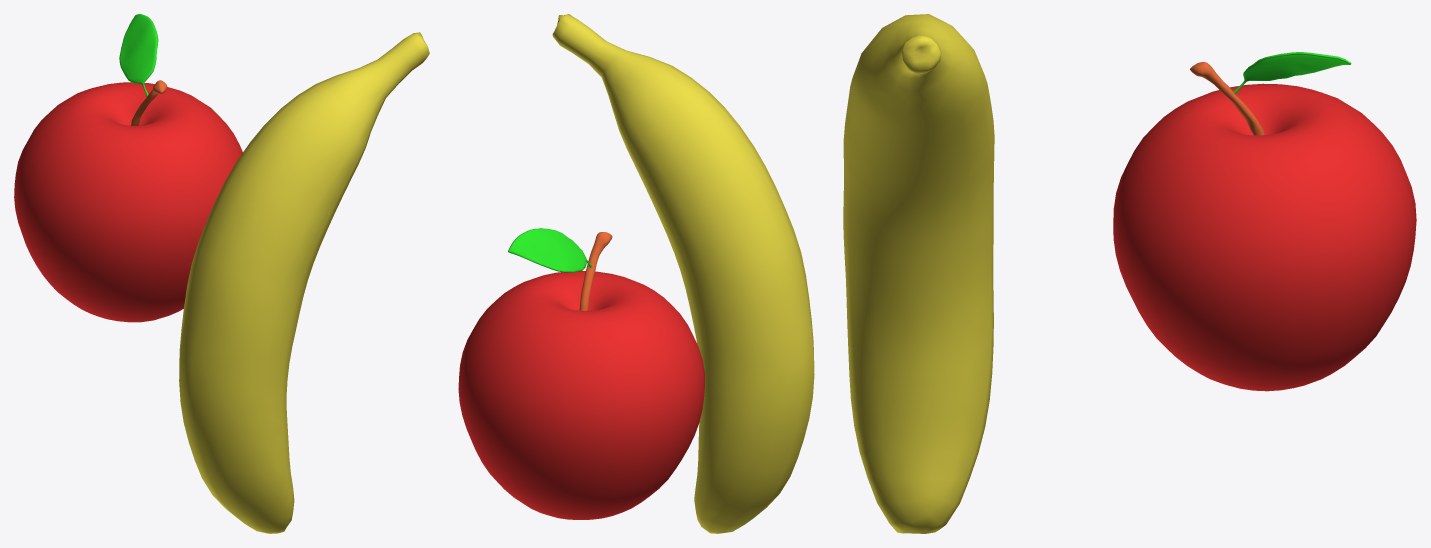
The model's file is MyAppleBanana 1.fbx.
3 renders of one model, left to right at view 1: azimuth 30°, elevation 25°; view 2: azimuth 150°, elevation 25°; view 3: azimuth 270°, elevation 25°, orthographic. The views are drawn at different scales.
Visible parts, largest first — view 1: Banana, Apple; view 2: Banana, Apple; view 3: Apple, Banana.
Part boxes in pixels (bbox=[...]): Banana: bbox=[179, 32, 429, 533]; Apple: bbox=[14, 14, 242, 322]; Banana: bbox=[552, 14, 814, 533]; Apple: bbox=[458, 228, 704, 519]; Apple: bbox=[1113, 52, 1416, 391]; Banana: bbox=[843, 14, 994, 533].
Bounding box in the file's own units: 82.47 × 138 × 123.
